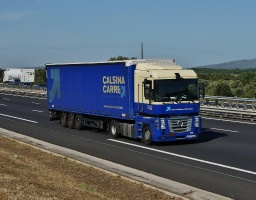truck: (42, 57, 205, 144)
